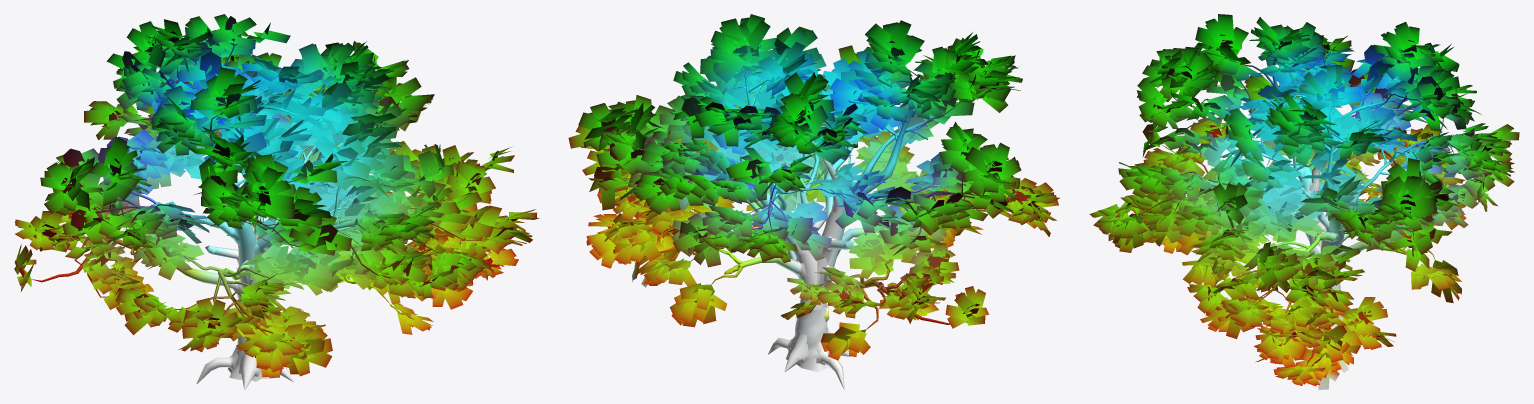
Rendered from arden_forest_oak_01_green.fbx.
3 views of the same model, side by side, from view 1: azimuth 30°, elevation 25°; view 2: azimuth 150°, elevation 25°; view 3: azimuth 270°, elevation 25° (orthographic). The views are drawn at different scales.
Parts seen in each view (by area): view 1: arden_forest_oak_01_green_leaves, arden_forest_oak_01_green_bark; view 2: arden_forest_oak_01_green_leaves, arden_forest_oak_01_green_bark; view 3: arden_forest_oak_01_green_leaves, arden_forest_oak_01_green_bark.
Boxes of the visible parts, box(x1,y1,x2,y2) form: arden_forest_oak_01_green_leaves: box(14, 14, 539, 378); arden_forest_oak_01_green_bark: box(32, 42, 484, 389); arden_forest_oak_01_green_leaves: box(568, 14, 1059, 360); arden_forest_oak_01_green_bark: box(622, 66, 1012, 389); arden_forest_oak_01_green_leaves: box(1089, 14, 1519, 389); arden_forest_oak_01_green_bark: box(1136, 57, 1468, 366).
Bounding box in the file's own units: 27.72 × 24.96 × 19.62.
